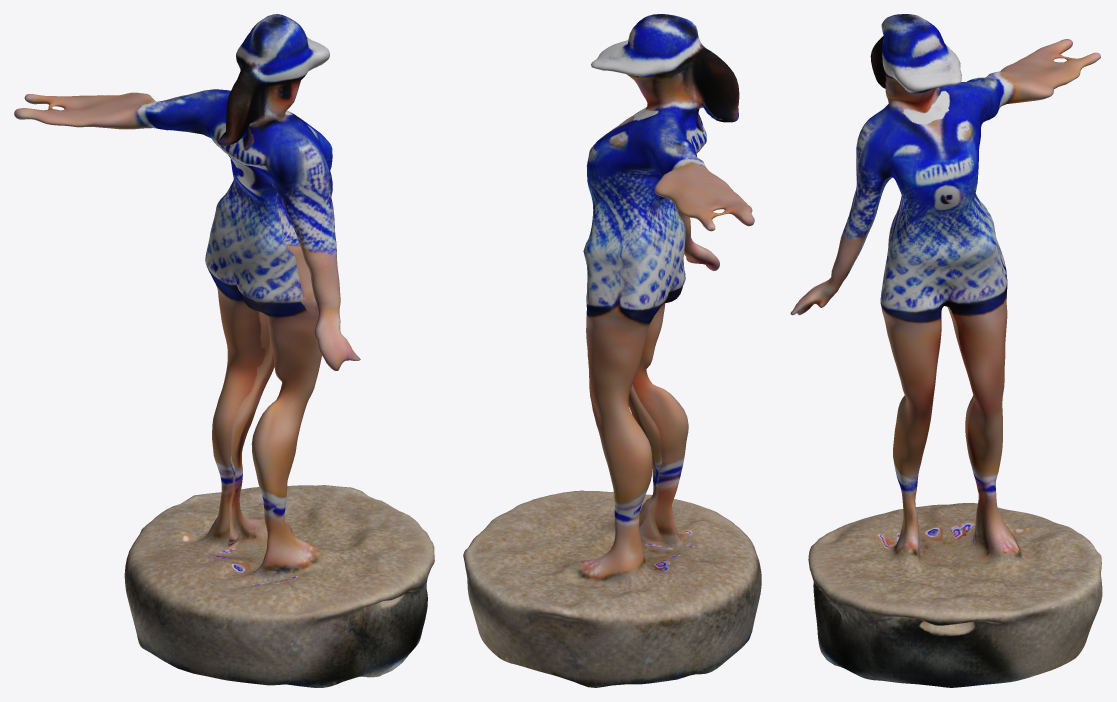
The model's file is 83bf4534841b_Women_s_Beach_Volle.obj.
3 renders of one model, left to right at view 1: azimuth 30°, elevation 25°; view 2: azimuth 150°, elevation 25°; view 3: azimuth 270°, elevation 25°, orthographic. The views are drawn at different scales.
Visible parts, largest first — view 1: mesh; view 2: mesh; view 3: mesh.
Part boxes in pixels (left/top/right/bottom): mesh: left=14, top=14, right=434, bottom=687; mesh: left=463, top=14, right=761, bottom=687; mesh: left=790, top=14, right=1102, bottom=687.
Bounding box in the file's own units: 0.5522 × 0.9997 × 0.4646.
1 material, 1 textured.
